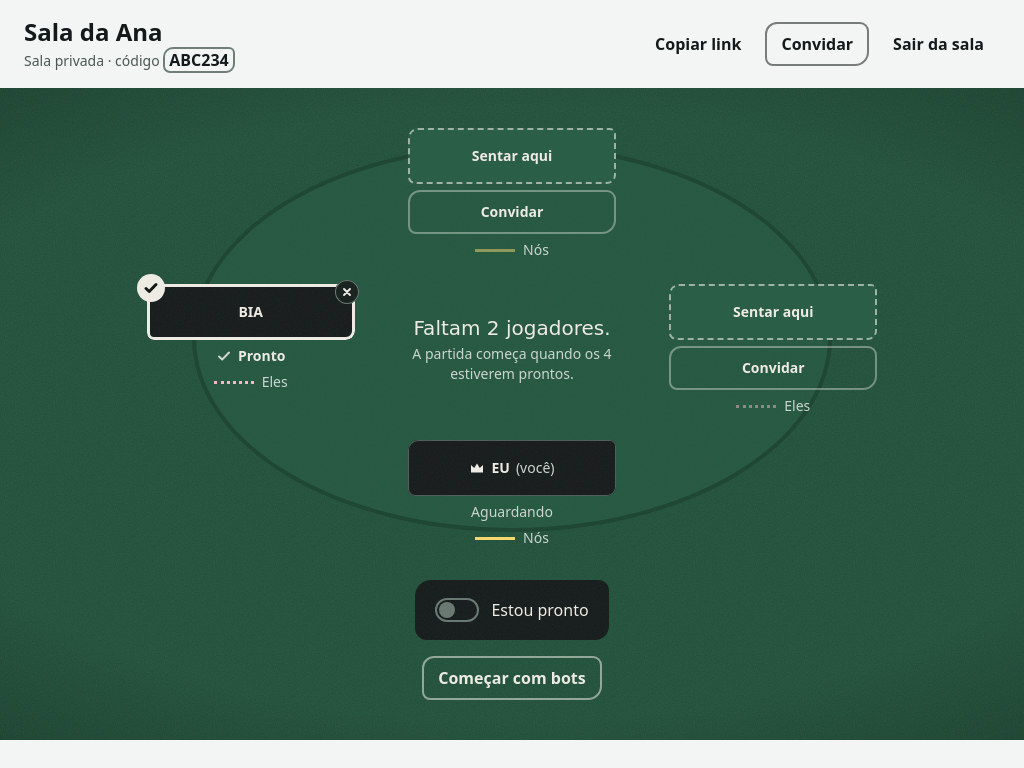
"Convidar" do topo abre o seletor sem lugar; escolher caio convida sem seat e fecha
Click the button "Convidar" in the row of "ABC234": (817, 44) [765,22,869,66]
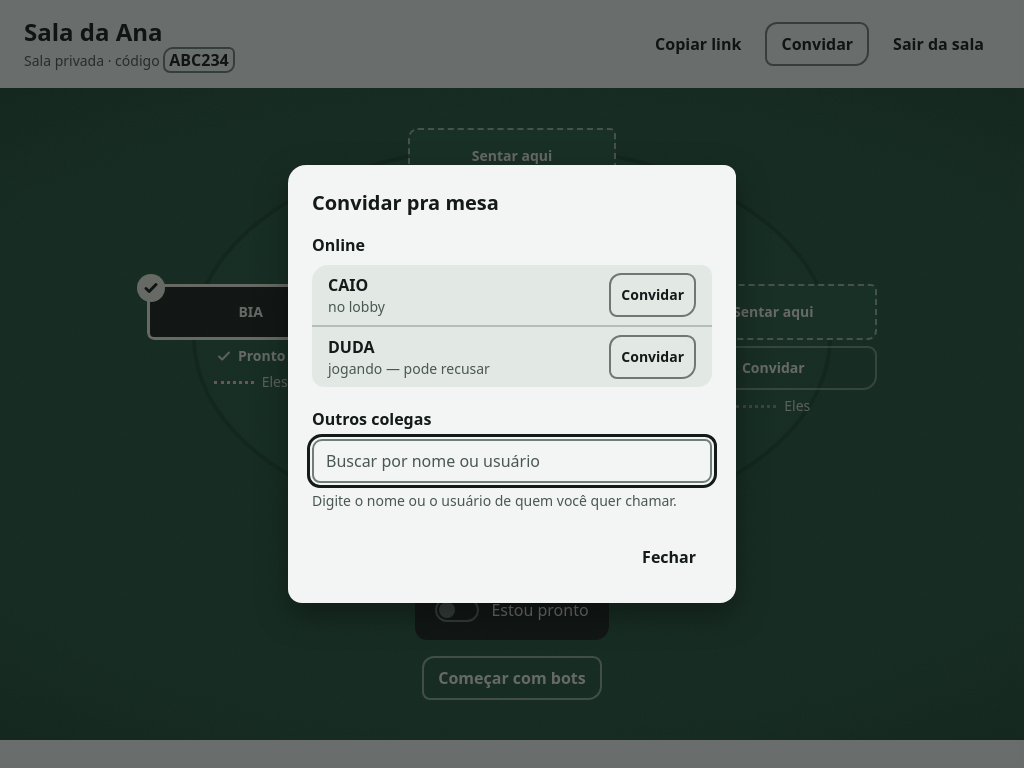
Expected: the dialog shows "Convidar"
Click the button "Convidar" in the row of "CAIO": (653, 295) [609,273,696,317]
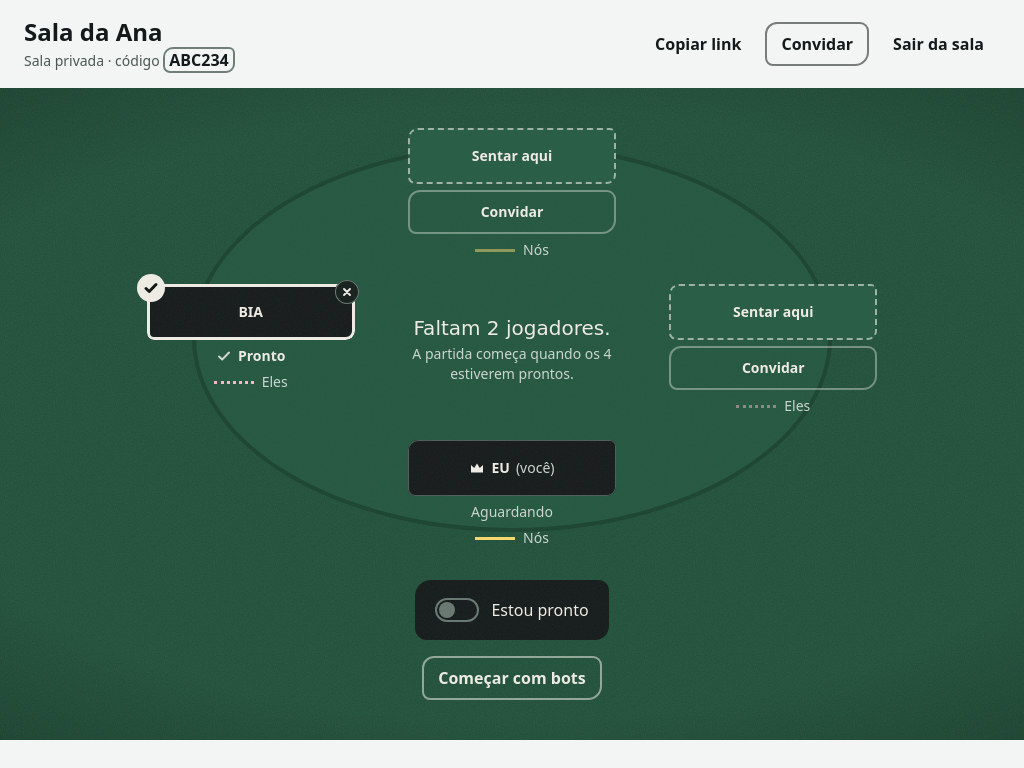
Expected: the dialog is gone
